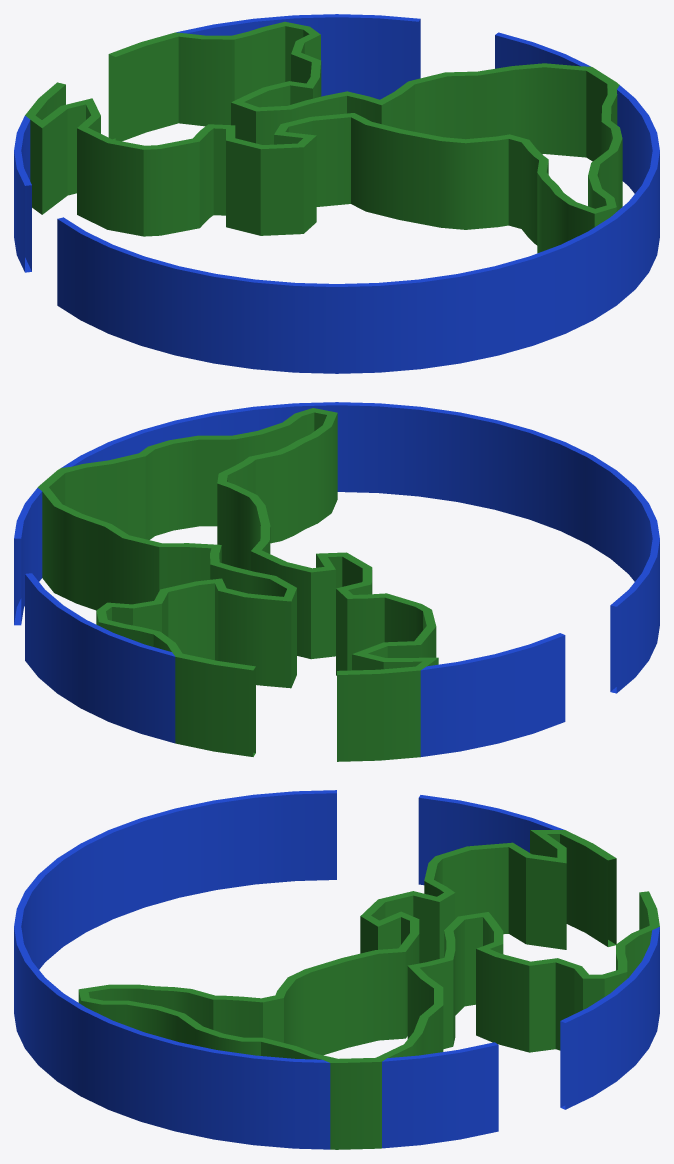
Rendered from earth_cut.fbx.
The picture shows the model from 3 angles, top to bottom: view 1: azimuth 30°, elevation 25°; view 2: azimuth 150°, elevation 25°; view 3: azimuth 270°, elevation 25°; orthographic projection.
Parts seen in each view (by area): view 1: Circle; view 2: Circle; view 3: Circle.
Part boxes in pixels (bbox=[...]): Circle: bbox=[14, 14, 659, 373]; Circle: bbox=[14, 402, 659, 761]; Circle: bbox=[14, 790, 659, 1149].
Bounding box in the file's own units: 202 × 30 × 202.
